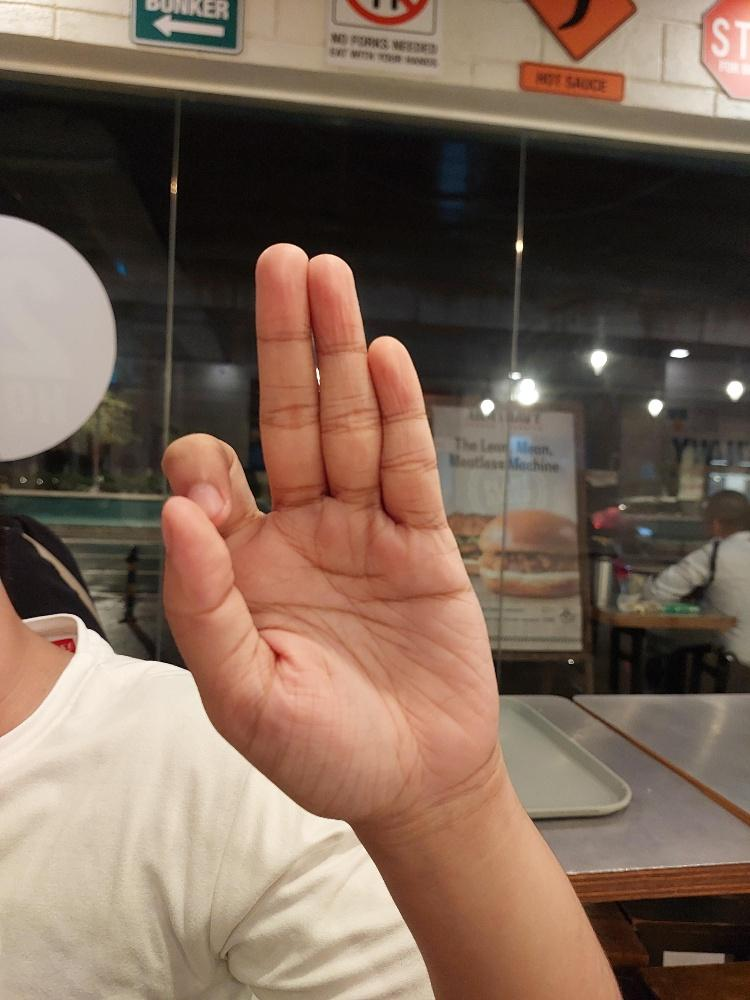f: (158, 238, 500, 822)
